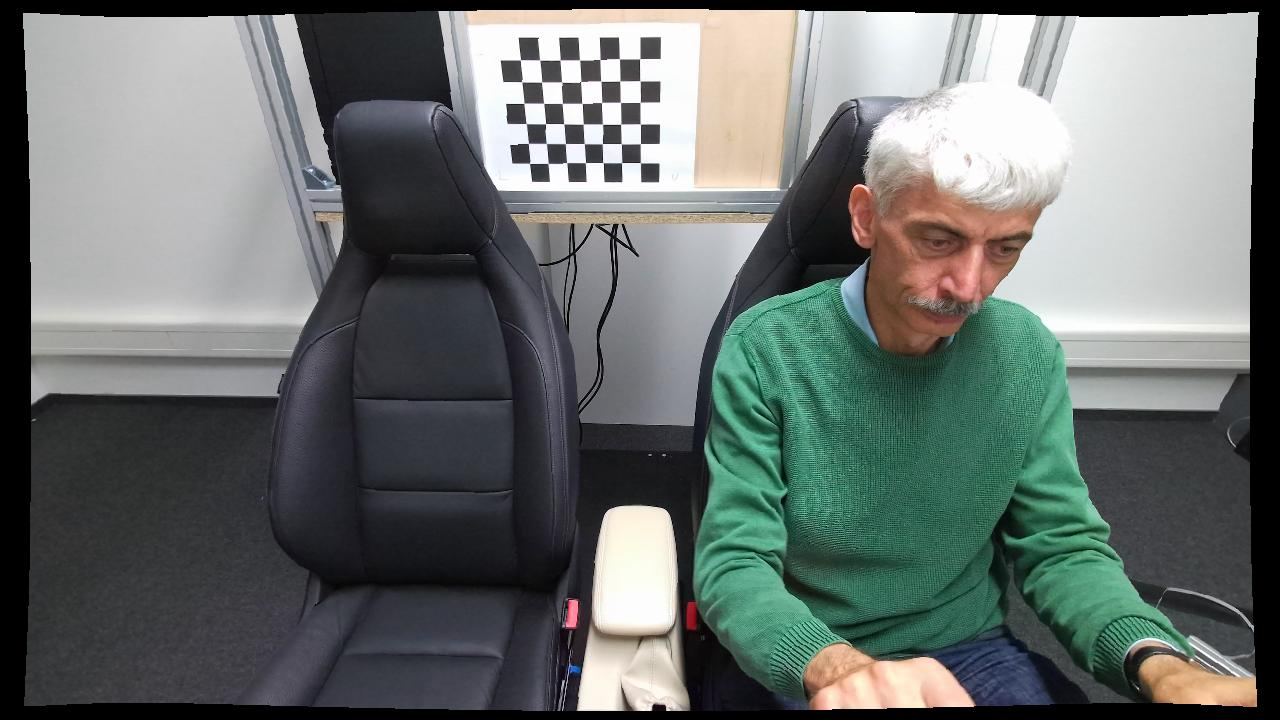SafeDriving: (687, 72, 1193, 709)
